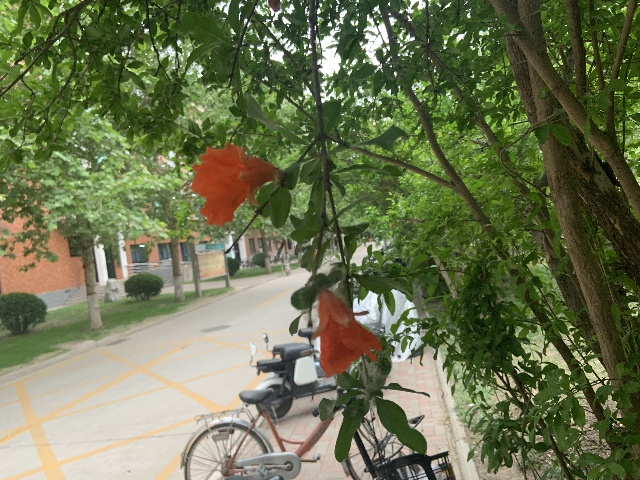flower: (190, 142, 277, 226), (311, 289, 381, 377)
